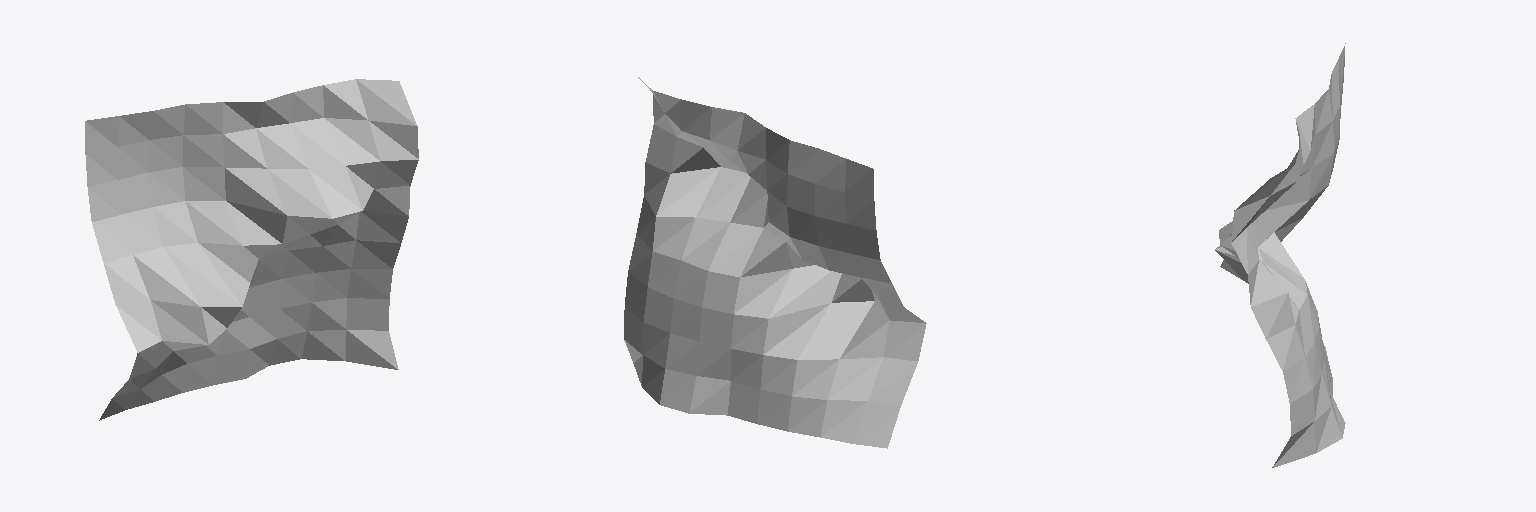
Rendered from hello.obj.
3 renders of one model, left to right at view 1: azimuth 30°, elevation 25°; view 2: azimuth 150°, elevation 25°; view 3: azimuth 270°, elevation 25°, orthographic.
Parts seen in each view (by area): view 1: mesh; view 2: mesh; view 3: mesh.
Boxes of the visible parts, box(x1,y1,x2,y2) form: mesh: box(85, 79, 418, 420); mesh: box(624, 77, 926, 448); mesh: box(1215, 43, 1345, 467).
Size of the model in its own units: 9 by 9 by 3.69.